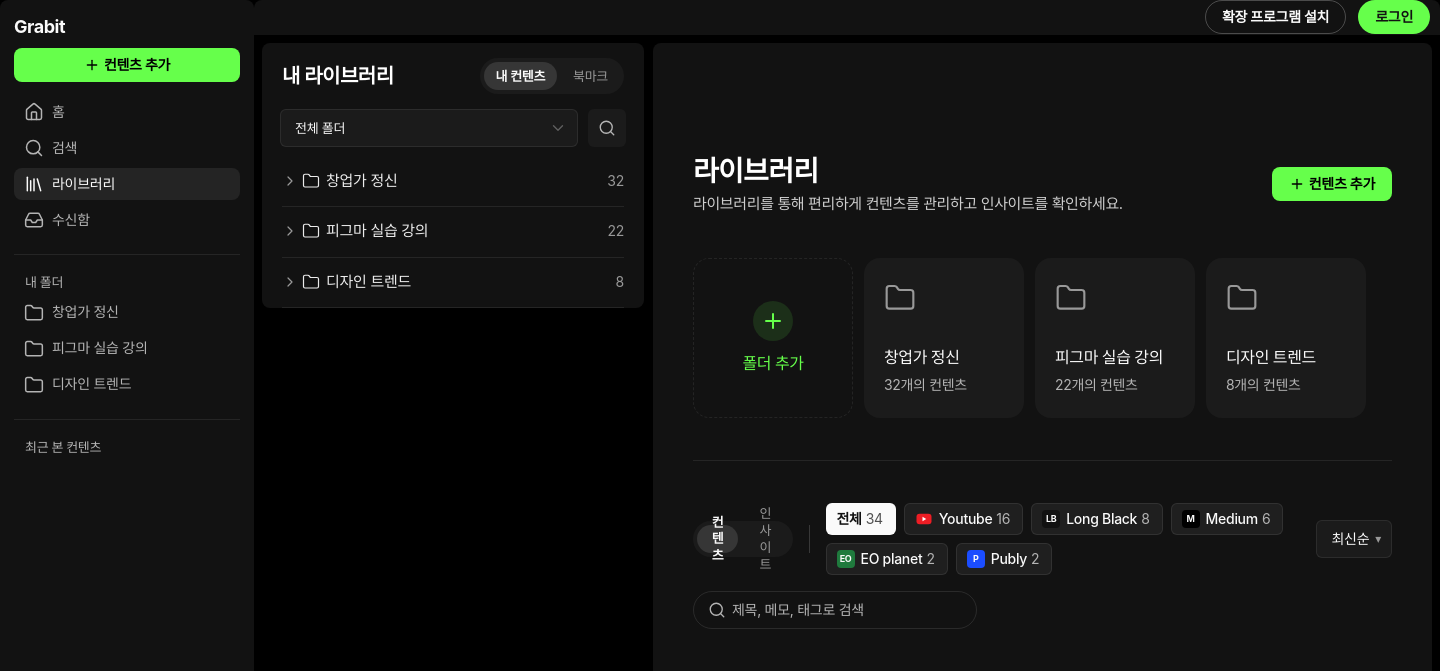
Scenario: library contract › 폴더 생성 모달: 폴더 추가 → 모달(input·만들기) 렌더
The width and height of the screenshot is (1440, 671).
Click the button "폴더 추가" at (773, 338), box [693, 258, 853, 418]
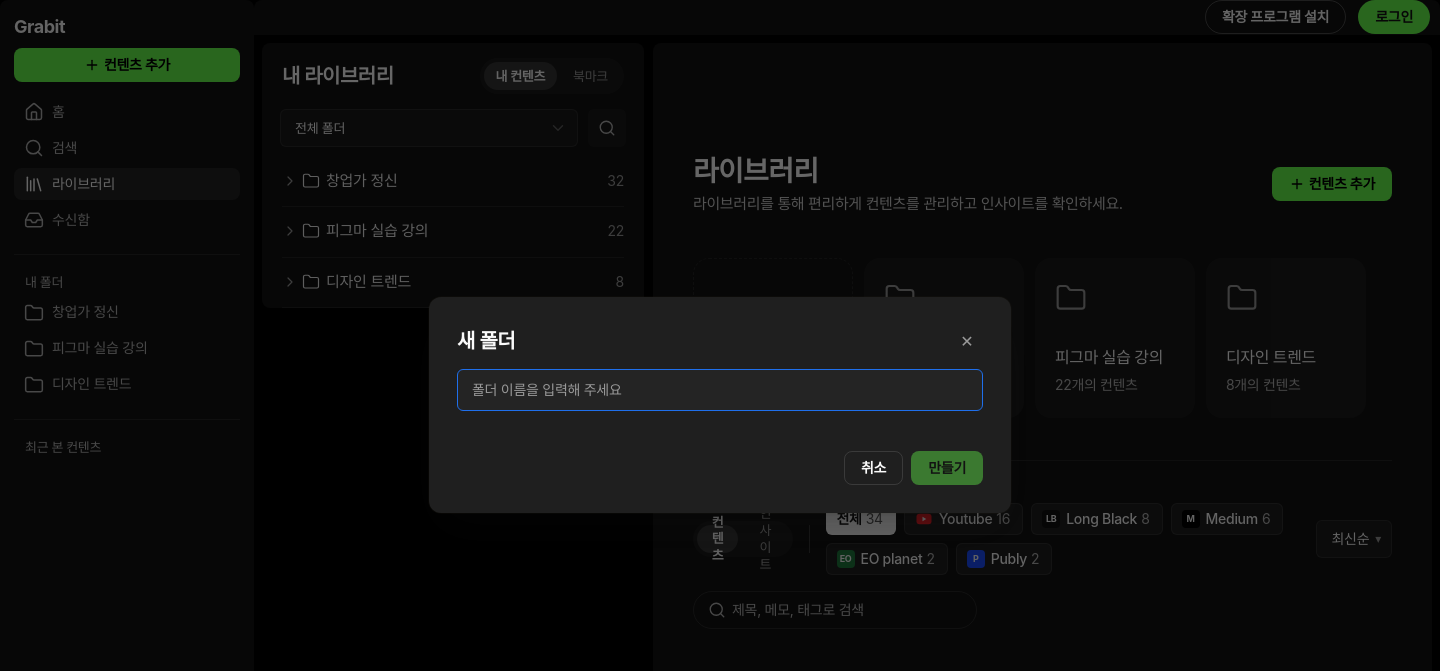
Expected: the dialog is shown, [429, 297, 1011, 513]
Expected: the field labelled "폴더 이름" is shown, [472, 379, 968, 401]
Expected: the button "만들기" is shown, [911, 451, 983, 485]
